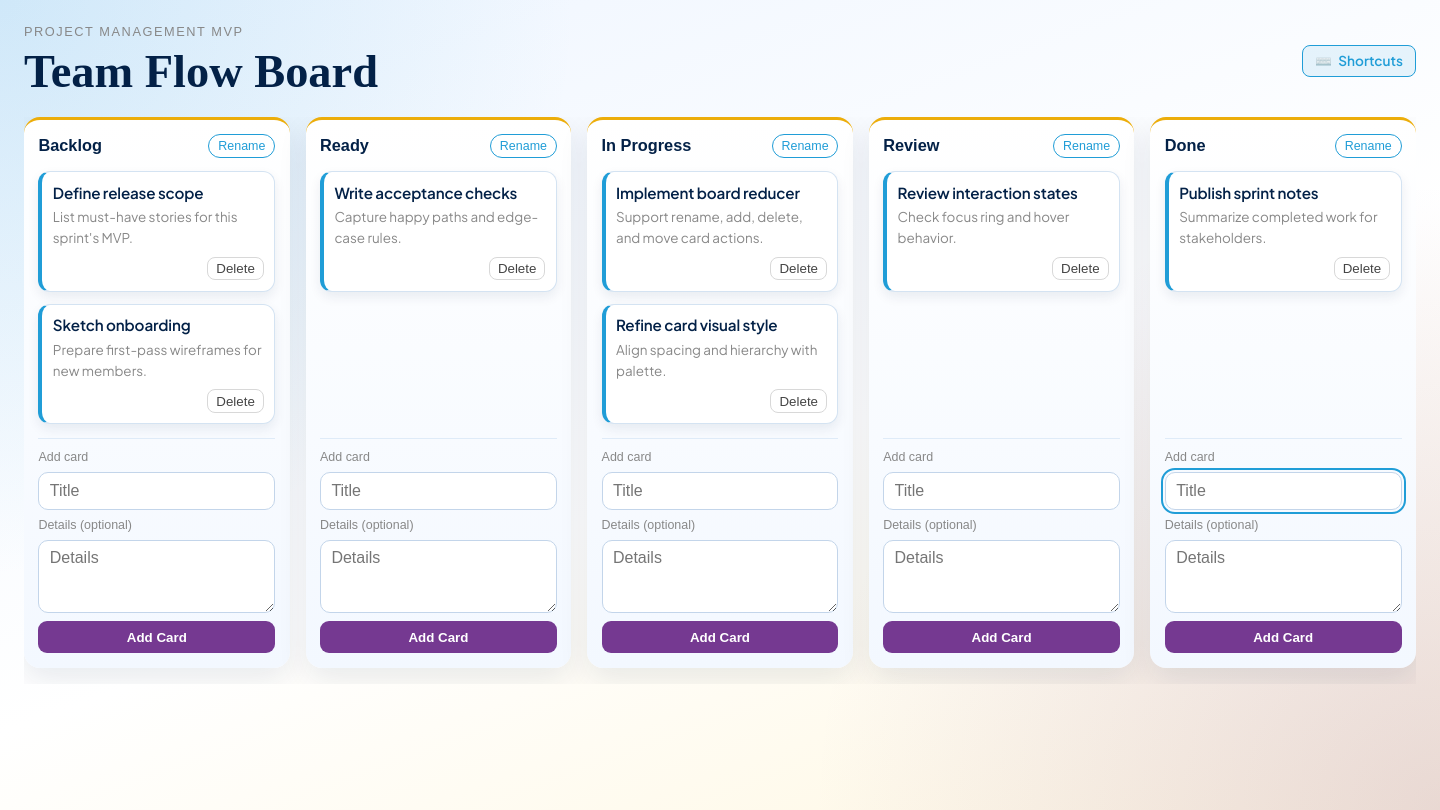
Scenario: Accessibility Tests › Keyboard Navigation › allows activating card delete buttons
Get delete button by testid (more reliable than aria-label matching)
Click the button with test id "delete-card-task-1".
click(236, 269)  # box [207,257,264,280]
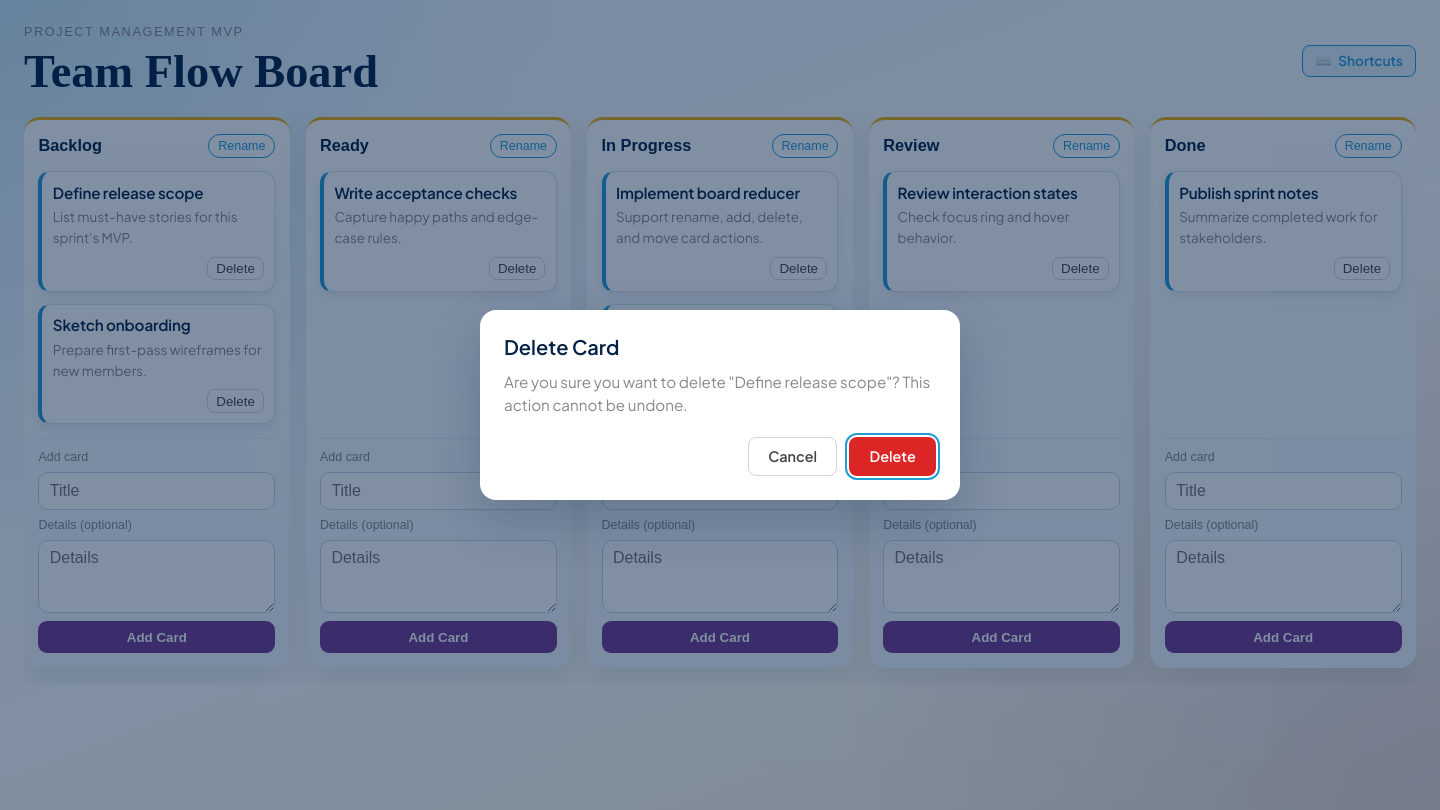
Result: the dialog is shown at [480,310,960,500]
